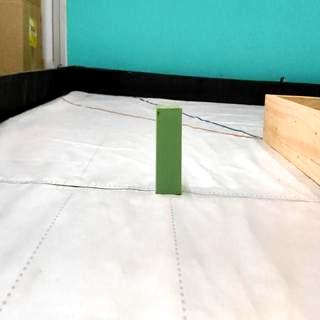greenbox: (154, 105, 186, 196)
